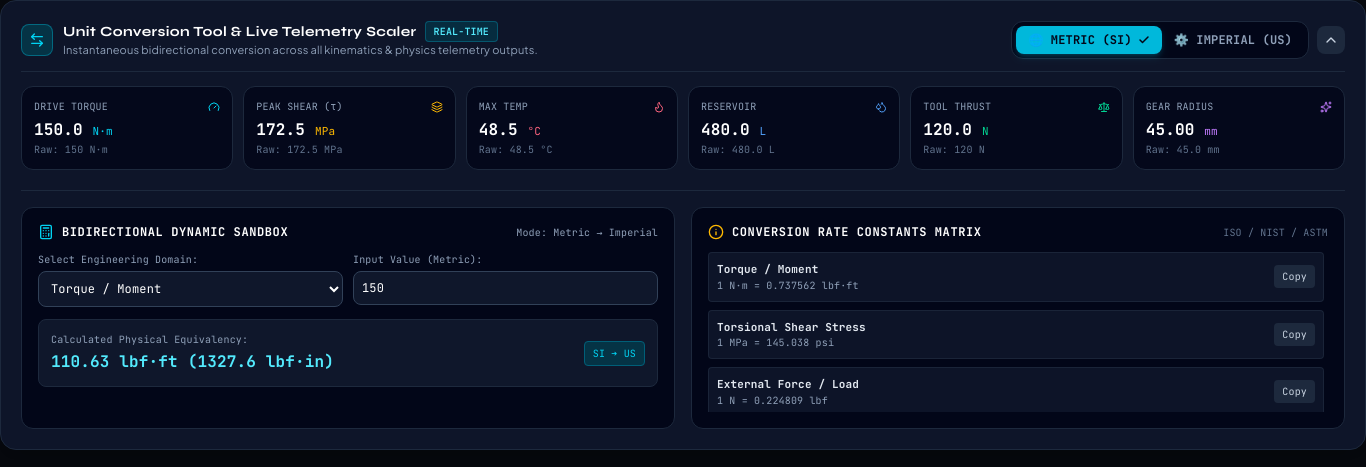
it: UnitConversionTool Component UI & Interactivity › updates dynamic sandbox calculations when typing a value
This screenshot has width=1366, height=467.
Replace the text in the number field showing "150" with "200" at (506, 288), box [353, 271, 658, 305]
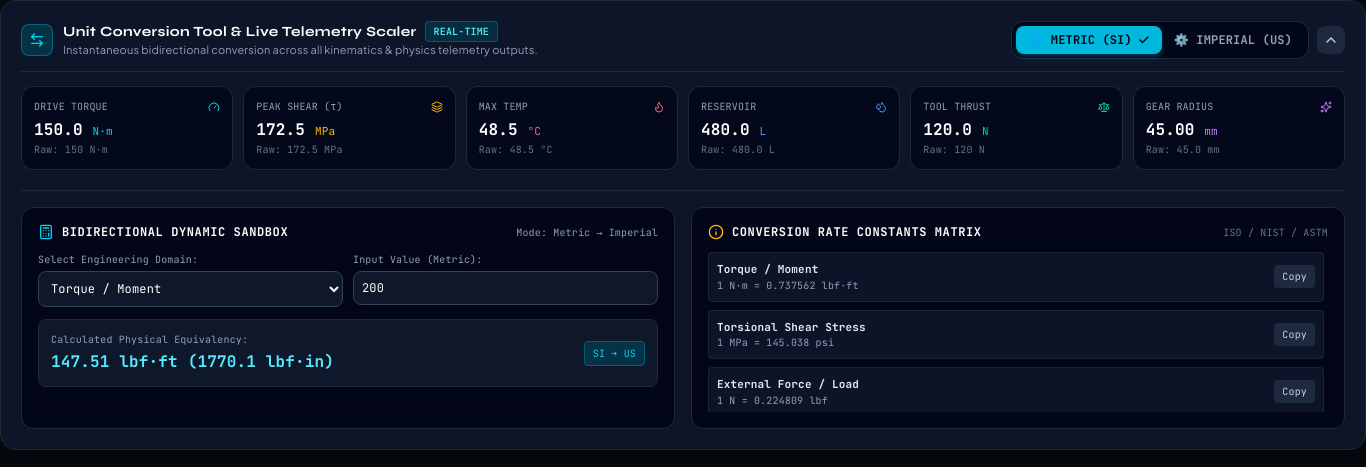
Expected: the text "147.51 lbf·ft (1770.1 lbf·in)" is shown, [51, 351, 334, 372]
